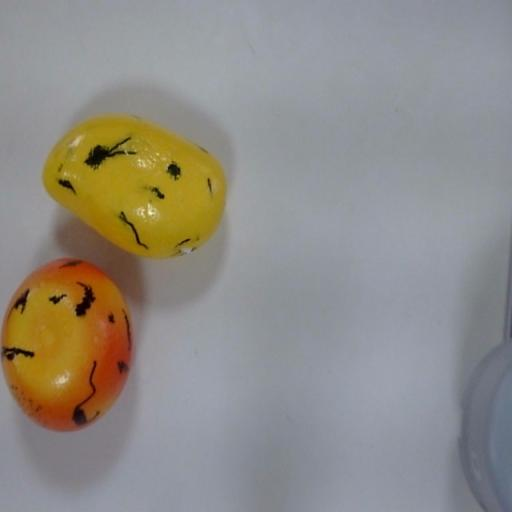Defective: (43, 104, 229, 273), (0, 255, 139, 449)
